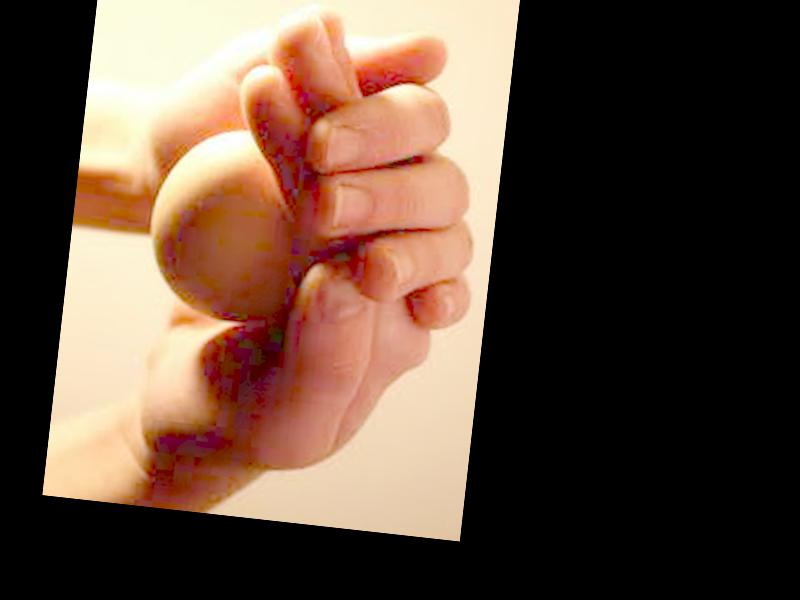Eggs: (141, 121, 308, 330)
